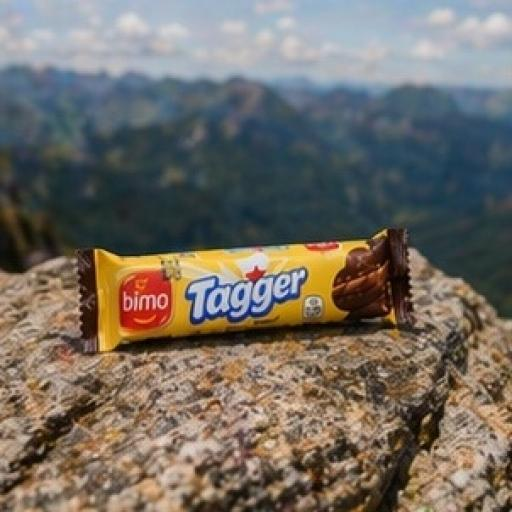tagger: (61, 146, 450, 387)
